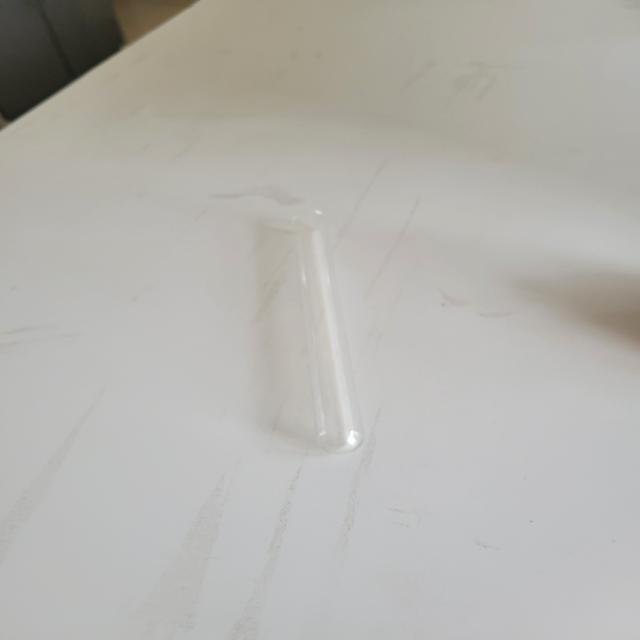Test_Tube: (227, 162, 414, 487)
